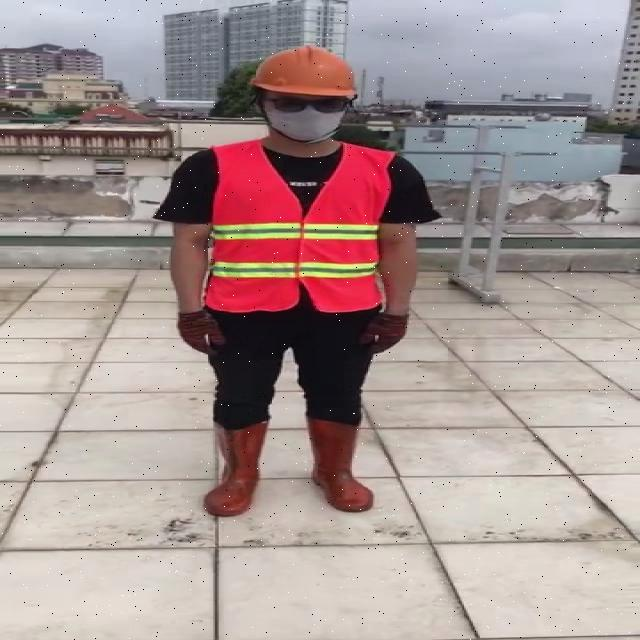Hard_hat: (245, 41, 361, 108)
Person: (145, 44, 440, 543)
Vest: (204, 140, 387, 314)
